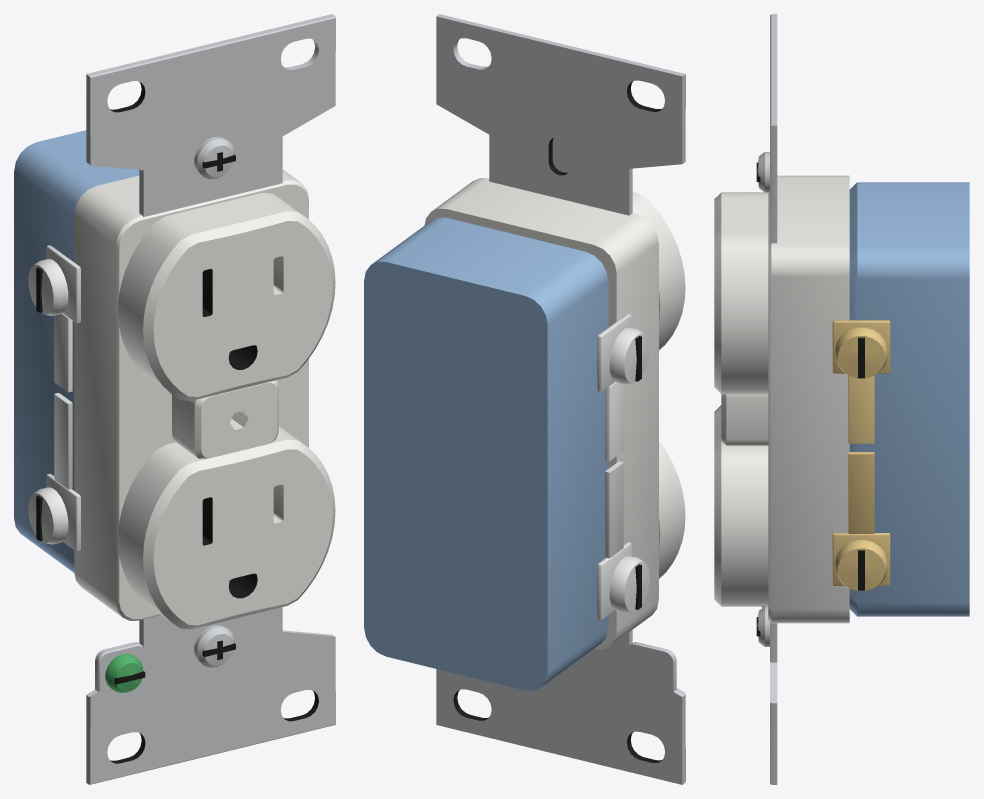
File: receptacle.glb
The picture shows the model from 3 angles, left to right: view 1: azimuth 30°, elevation 25°; view 2: azimuth 150°, elevation 25°; view 3: azimuth 270°, elevation 25°; orthographic projection. The views are drawn at different scales.
Parts seen in each view (by area): view 1: Strap, Face0, Face1, BodyFront, BodyBack, Bridge, SilverBreakTab, SilverScrewBottom, SilverScrewTop, MountScrew0, MountScrew1, GroundScrew (+3 smaller); view 2: BodyBack, Strap, BodyFront, Face0, SilverBreakTab, Face1, GroundTab, SilverScrewBottom, SilverScrewTop, SilverPlateTop, SilverPlateBottom; view 3: BodyBack, BodyFront, Face0, Face1, BrassBreakTab, Strap, Bridge, BrassScrewTop, BrassScrewBottom, BrassPlateTop, BrassPlateBottom, MountScrew0 (+1 smaller).
Boxes of the visible parts, <box> form: Strap: <box>86,14,335,784</box>; Face0: <box>118,192,335,400</box>; Face1: <box>118,426,335,629</box>; BodyFront: <box>74,169,308,620</box>; BodyBack: <box>14,130,139,572</box>; Bridge: <box>172,380,278,458</box>; SilverBreakTab: <box>54,313,72,489</box>; SilverScrewBottom: <box>28,487,68,544</box>; SilverScrewTop: <box>28,259,68,315</box>; MountScrew0: <box>194,136,235,179</box>; MountScrew1: <box>194,625,235,667</box>; GroundScrew: <box>105,653,145,692</box>; BodyBack: <box>364,217,608,690</box>; Strap: <box>436,14,685,784</box>; BodyFront: <box>424,178,658,649</box>; Face0: <box>632,192,685,350</box>; SilverBreakTab: <box>605,382,623,558</box>; Face1: <box>659,441,685,578</box>; GroundTab: <box>626,642,676,697</box>; SilverScrewBottom: <box>609,556,649,612</box>; SilverScrewTop: <box>609,327,649,384</box>; SilverPlateTop: <box>597,314,631,391</box>; SilverPlateBottom: <box>597,542,631,620</box>; BodyBack: <box>849,182,969,616</box>; BodyFront: <box>768,175,849,623</box>; Face0: <box>714,192,768,394</box>; Face1: <box>714,405,768,606</box>; BrassBreakTab: <box>848,375,874,533</box>; Strap: <box>770,14,777,784</box>; Bridge: <box>721,394,768,445</box>; BrassScrewTop: <box>835,327,887,378</box>; BrassScrewBottom: <box>835,540,887,590</box>; BrassPlateTop: <box>832,320,890,373</box>; BrassPlateBottom: <box>832,533,890,585</box>; MountScrew0: <box>756,152,769,192</box>.
Bounding box in the file's own units: 0.045 × 0.121 × 0.0425.
